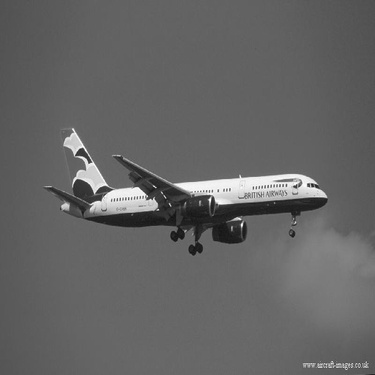airplane: (28, 113, 353, 256)
